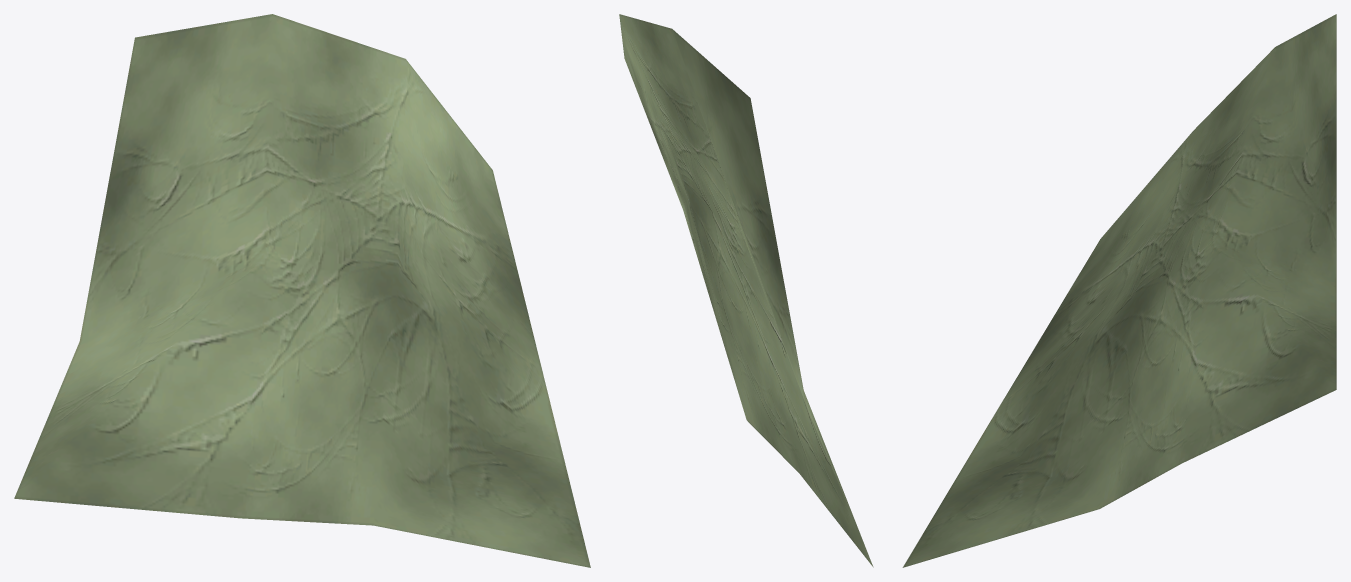
Rendered from cobweb3.fbx.
3 views of the same model, side by side, from view 1: azimuth 30°, elevation 25°; view 2: azimuth 150°, elevation 25°; view 3: azimuth 270°, elevation 25° (orthographic).
Parts seen in each view (by area): view 1: cobweb3; view 2: cobweb3; view 3: cobweb3.
Part boxes in pixels (box(x1,y1,x2,y2)): cobweb3: box(14, 14, 590, 567); cobweb3: box(619, 14, 873, 567); cobweb3: box(902, 14, 1336, 567).
Bounding box in the file's own units: 2.18 × 2.6 × 2.24.
